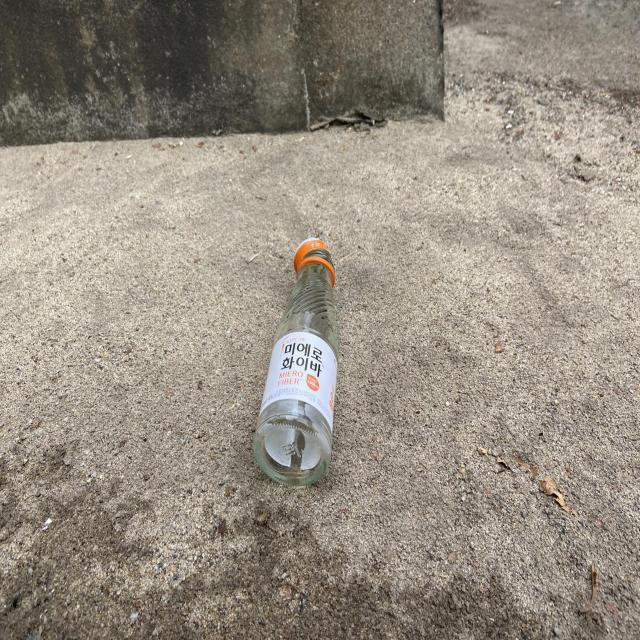glass: (254, 237, 339, 485)
